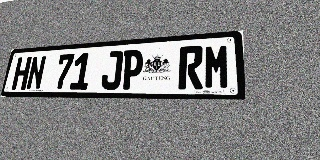1: (70, 53, 92, 90)
7: (53, 54, 75, 90)
H: (11, 57, 32, 90)
J: (100, 50, 124, 90)
M: (204, 44, 230, 89)
N: (26, 56, 47, 90)
P: (120, 49, 144, 90)
R: (178, 45, 203, 89)
